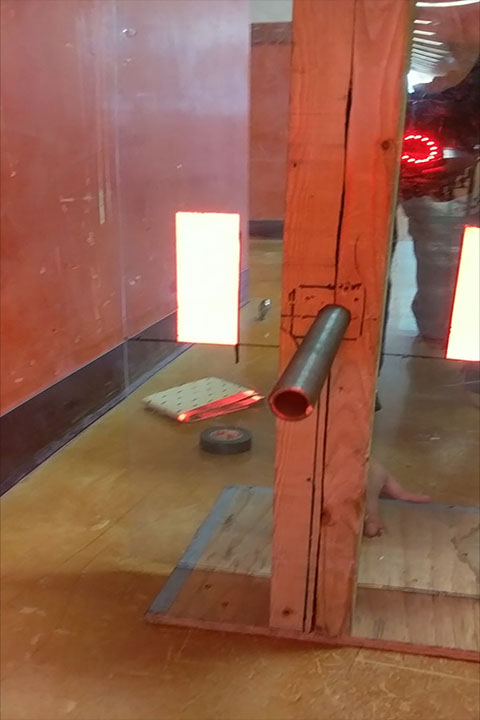gear: (174, 211, 241, 347), (444, 225, 480, 362)
